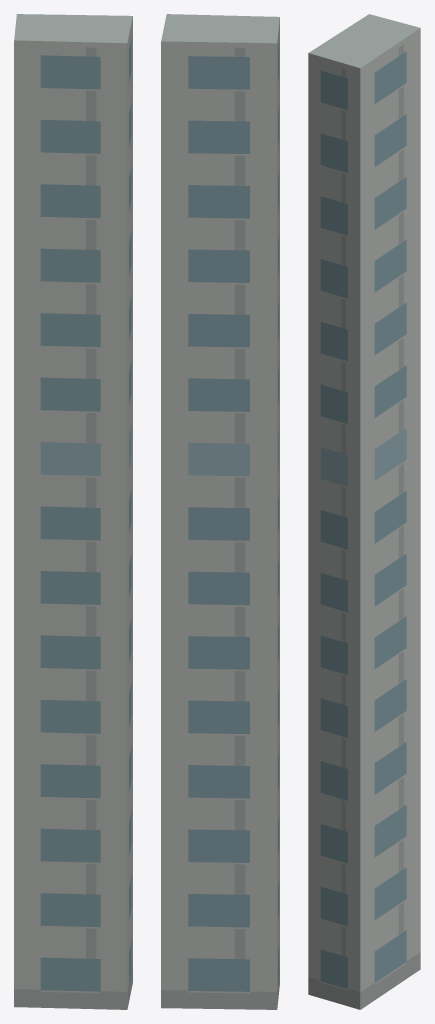
File: survey-upis-32736602.glb
3 views of the same model, side by side, from view 1: azimuth 30°, elevation 25°; view 2: azimuth 210°, elevation 25°; view 3: azimuth 270°, elevation 25° (orthographic). The views are drawn at different scales.
Parts seen in each view (by area): view 1: survey-upis-32736602.tmp; view 2: survey-upis-32736602.tmp; view 3: survey-upis-32736602.tmp.
Boxes of the visible parts, bbox=[...] form: survey-upis-32736602.tmp: bbox=[14, 14, 132, 1009]; survey-upis-32736602.tmp: bbox=[161, 14, 279, 1009]; survey-upis-32736602.tmp: bbox=[308, 14, 420, 1009].
Bounding box in the file's own units: 5.67 × 45.75 × 4.95.
